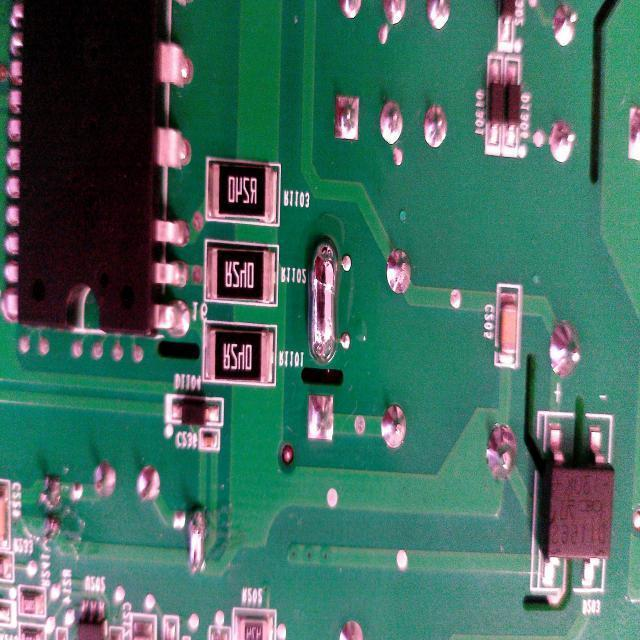Soldering shorted: (303, 234, 345, 366), (186, 497, 207, 580)
